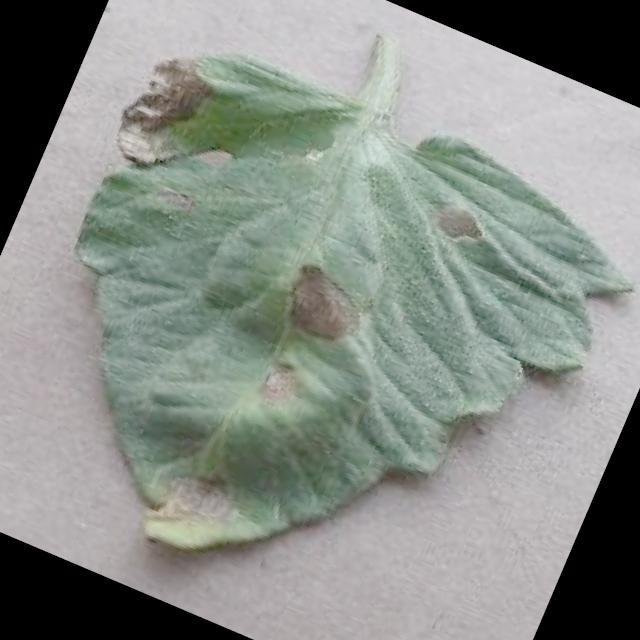Tomato Early blight leaf: (0, 16, 639, 640)
